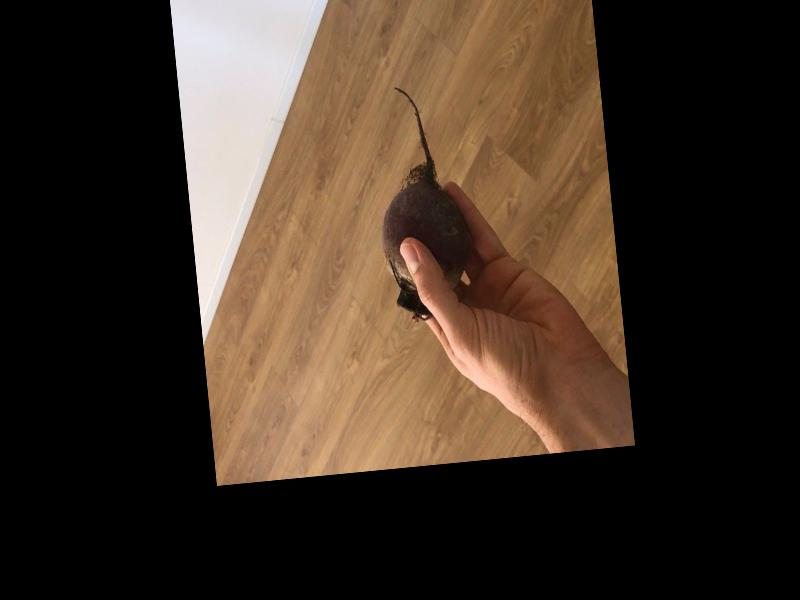Beet: (368, 81, 475, 323)
